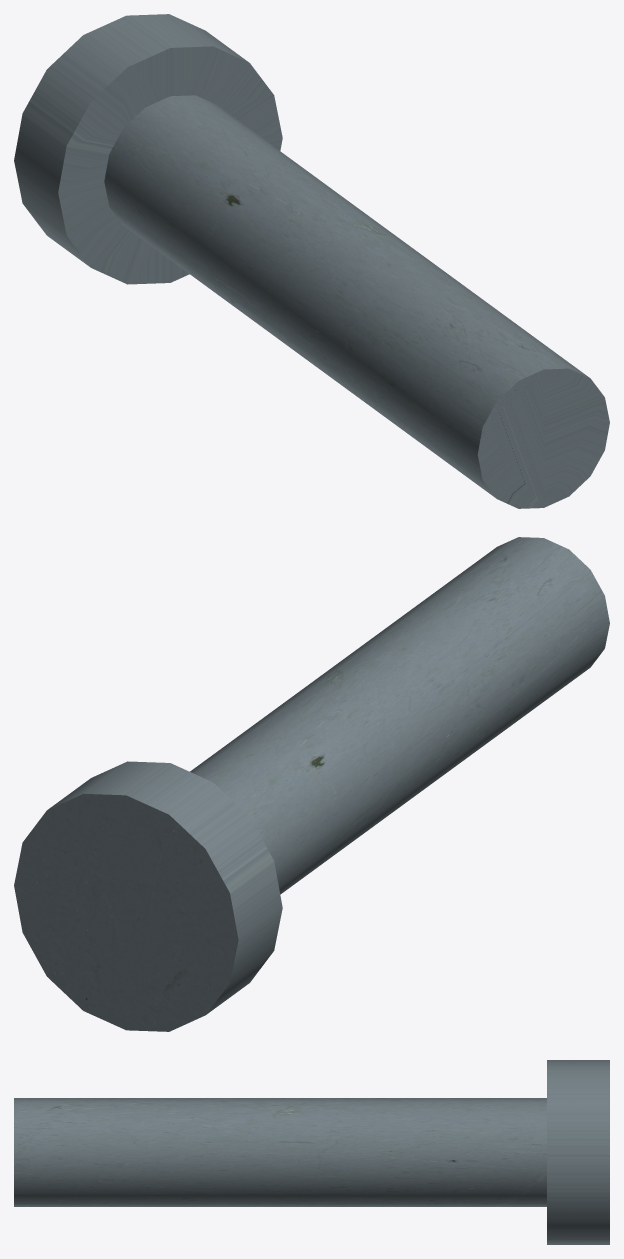
The model's file is BoltShort.FBX.
3 views of the same model, one above another, from view 1: azimuth 30°, elevation 25°; view 2: azimuth 150°, elevation 25°; view 3: azimuth 270°, elevation 25° (orthographic). The views are drawn at different scales.
Parts seen in each view (by area): view 1: BoltShort; view 2: BoltShort; view 3: BoltShort.
Part boxes in pixels (x1,y1,x2,y2): BoltShort: (14,14,609,508); BoltShort: (14,537,609,1031); BoltShort: (14,1060,609,1244).
Bounding box in the file's own units: 2.2 × 7.09 × 2.2.
